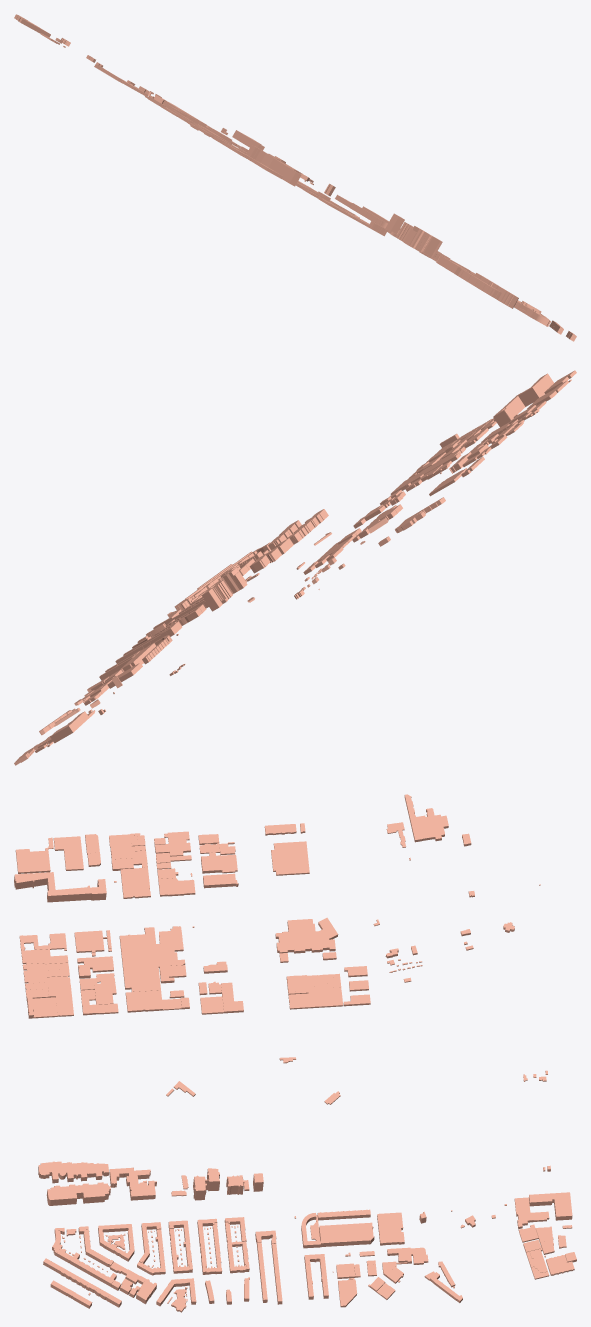
The picture shows the model from 3 angles, top to bottom: view 1: azimuth 30°, elevation 25°; view 2: azimuth 150°, elevation 25°; view 3: azimuth 270°, elevation 25°; orthographic projection. The views are drawn at different scales.
Size of the model in its own units: 1081 by 797 by 1271.
